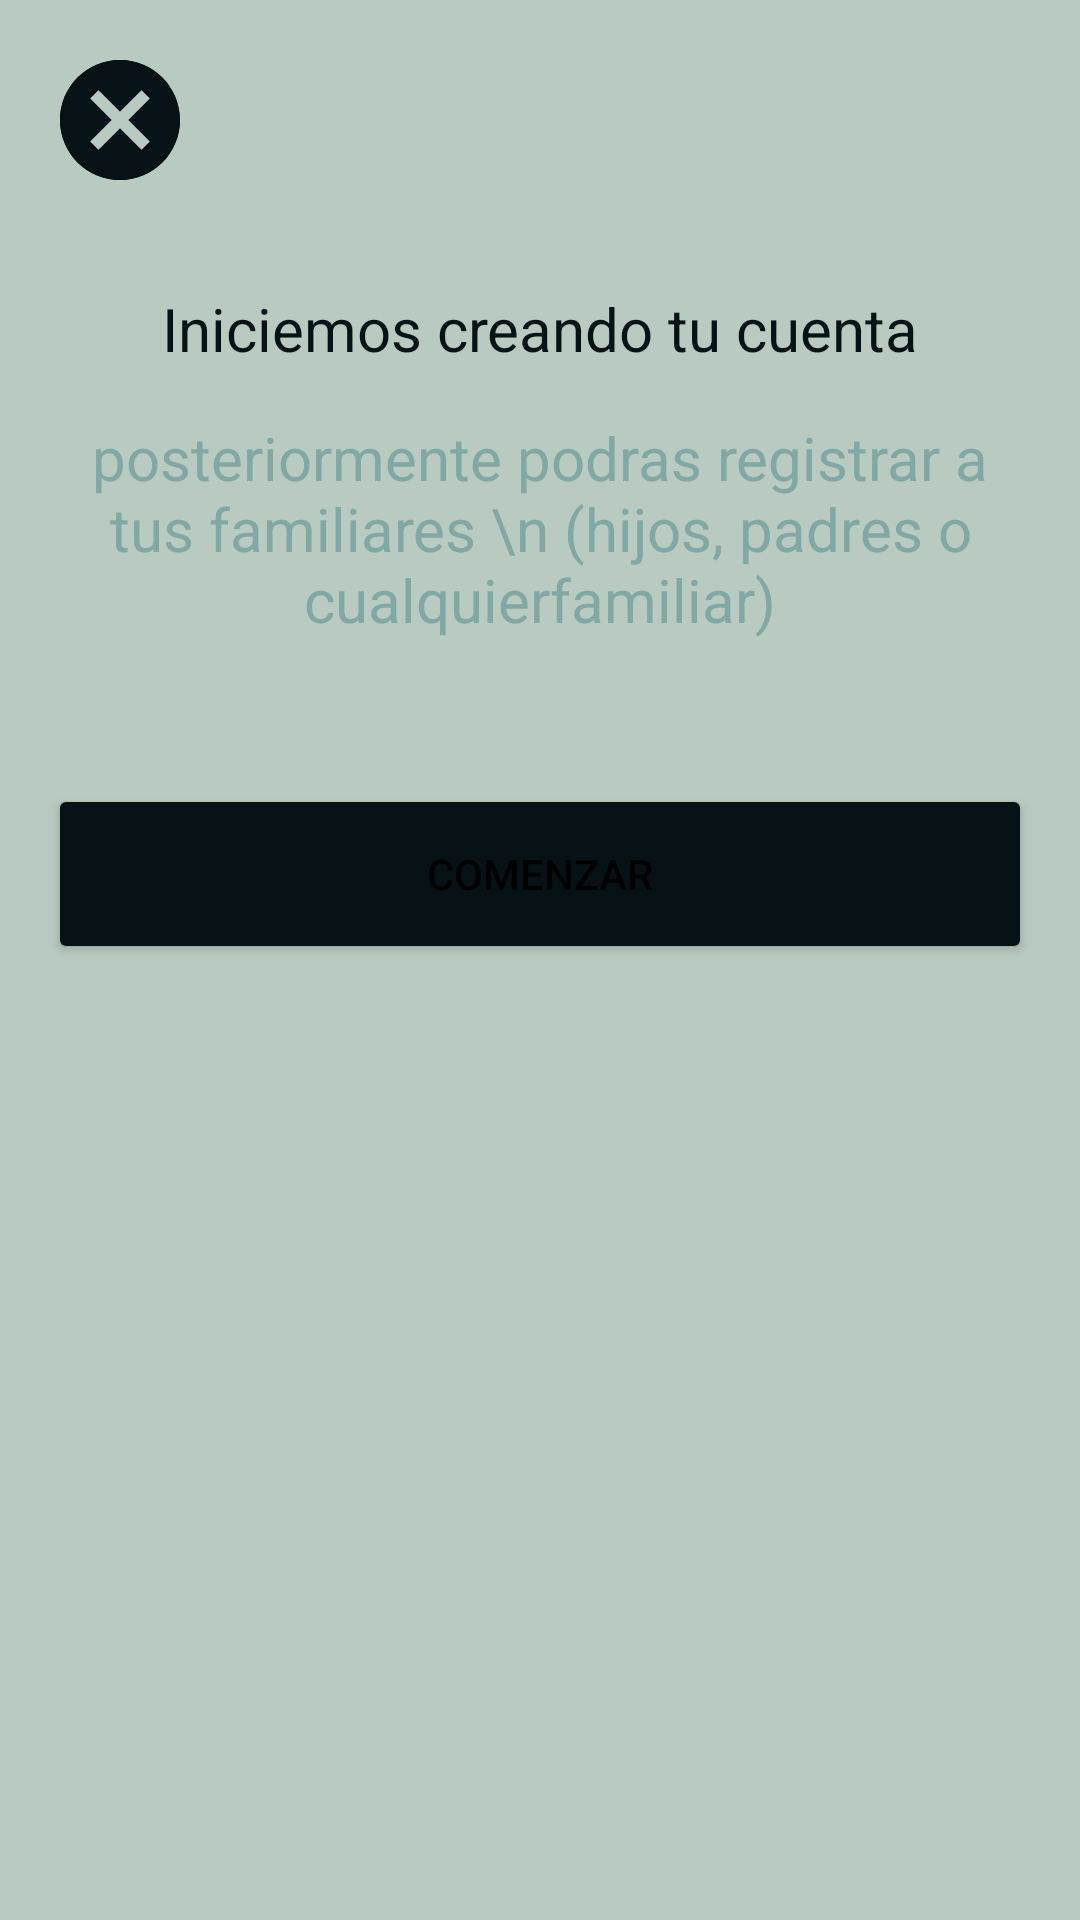

Named icons in this screenshot (1080×1920) and their bounding boxes, (x1, y1, x2, y2):
cancel: (60, 60, 180, 180)
